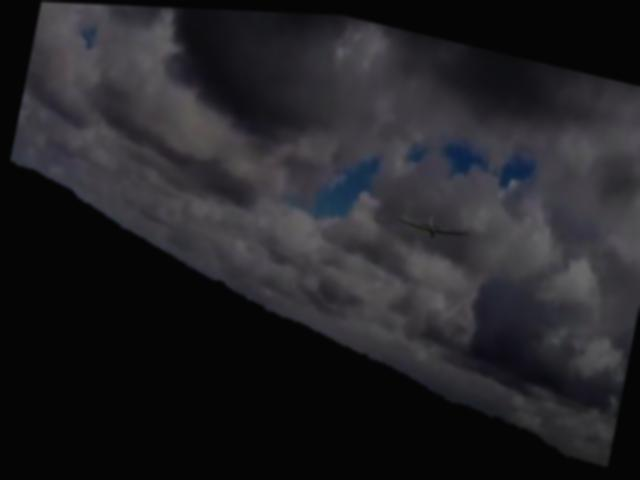iha: (398, 204, 471, 245)
